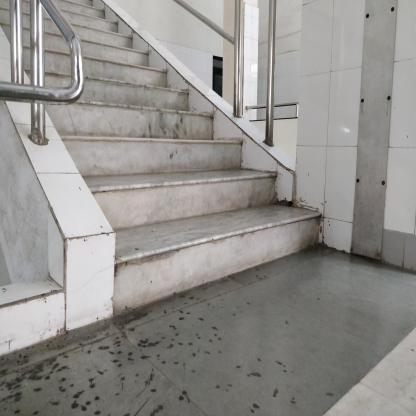stairs: (120, 126, 221, 318)
